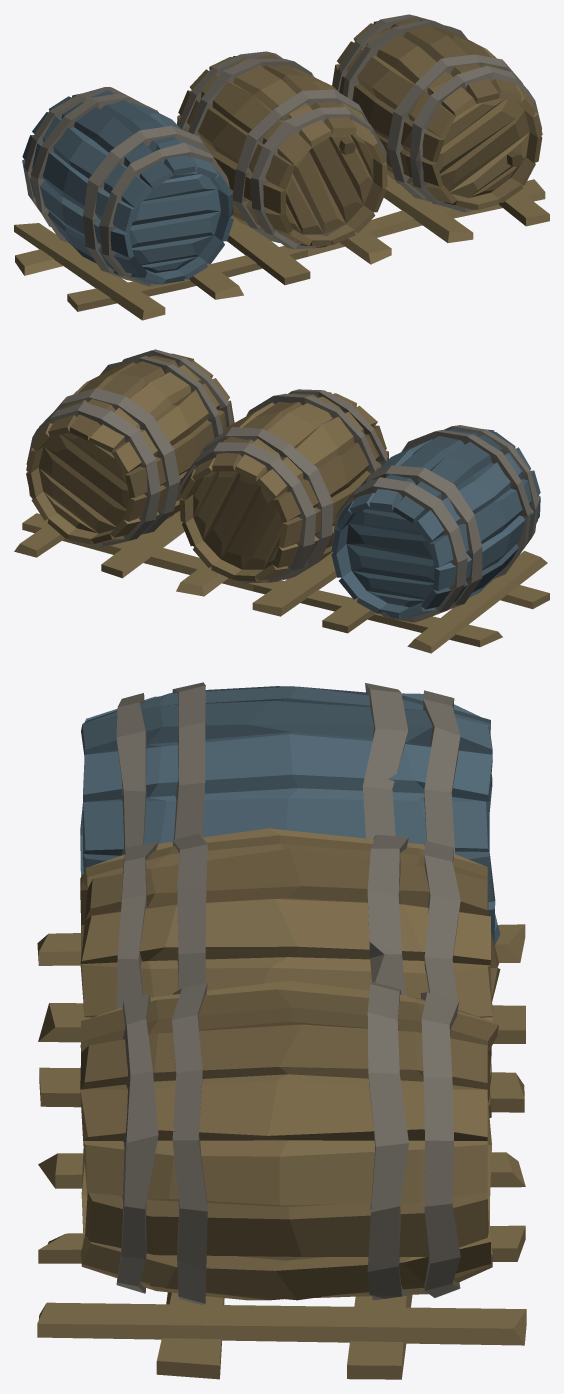
The model's file is Stack_9.fbx.
3 views of the same model, one above another, from view 1: azimuth 30°, elevation 25°; view 2: azimuth 150°, elevation 25°; view 3: azimuth 270°, elevation 25° (orthographic). The views are drawn at different scales.
Parts seen in each view (by area): view 1: Stack_9; view 2: Stack_9; view 3: Stack_9.
Boxes of the visible parts, x1,y1,x2,y2 form: Stack_9: [14, 14, 549, 320]; Stack_9: [14, 349, 549, 653]; Stack_9: [37, 682, 526, 1379].
Bounding box in the file's own units: 245 × 76.57 × 110.
